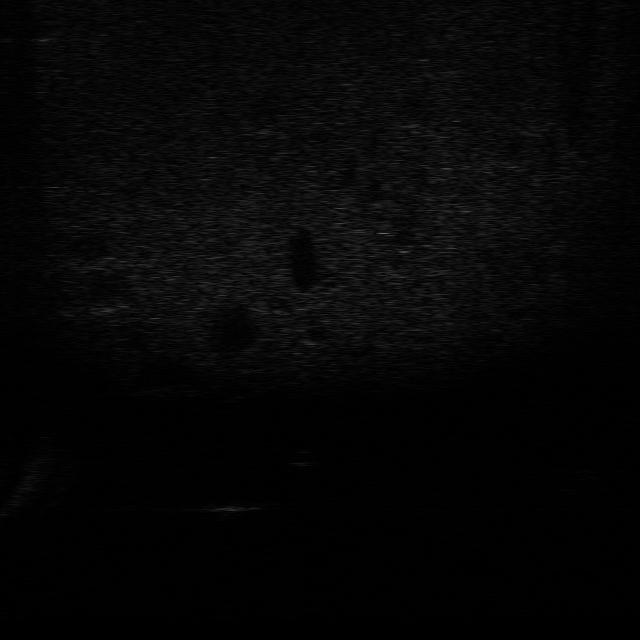ball: (281, 444, 324, 470)
square cage: (200, 490, 268, 522)
tyre: (549, 464, 605, 498)
